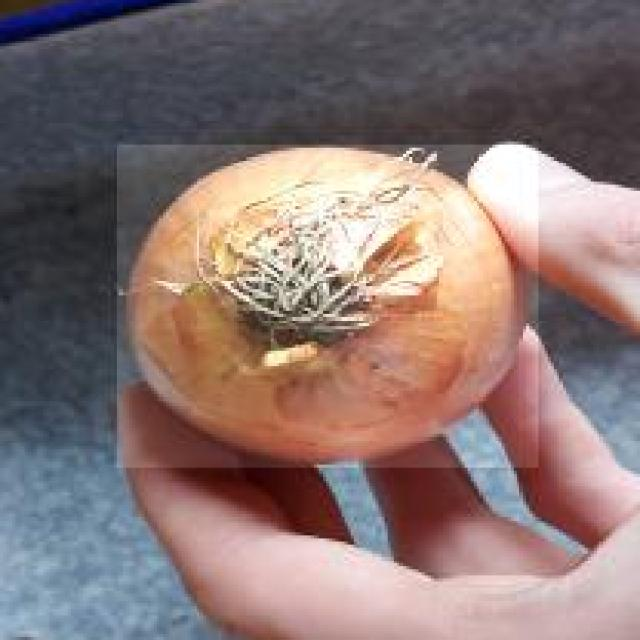onion: (114, 140, 538, 469)
